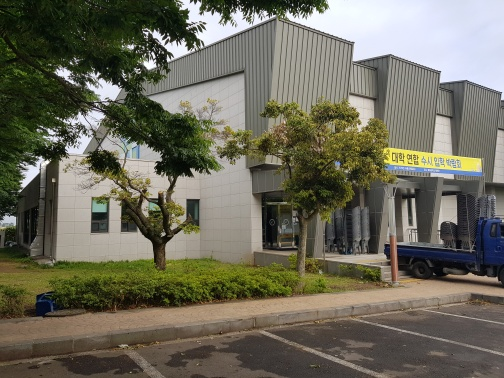Gym: (21, 35, 474, 248), (243, 36, 495, 164), (239, 159, 443, 241)
